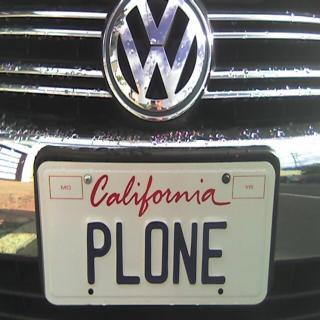license: (34, 149, 281, 313)
